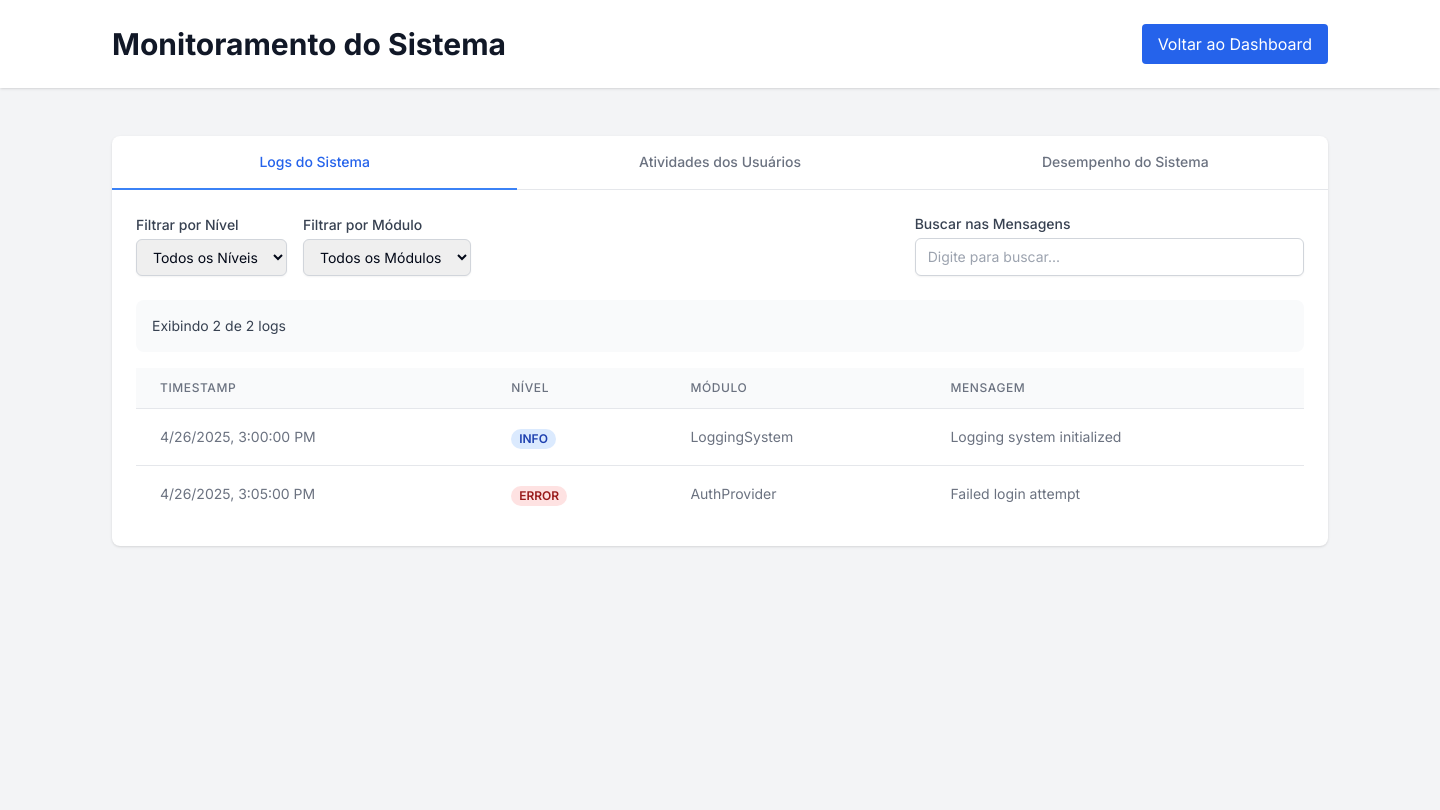
Test: MonitoringDashboard › alterna entre as abas de monitoramento
# Clicar na aba de atividades dos usuários
What coordinates should you click on to do the following:
click the button "Atividades dos Usuários"
I would click on:
 (720, 163)
Its box is [517,136,923,190].
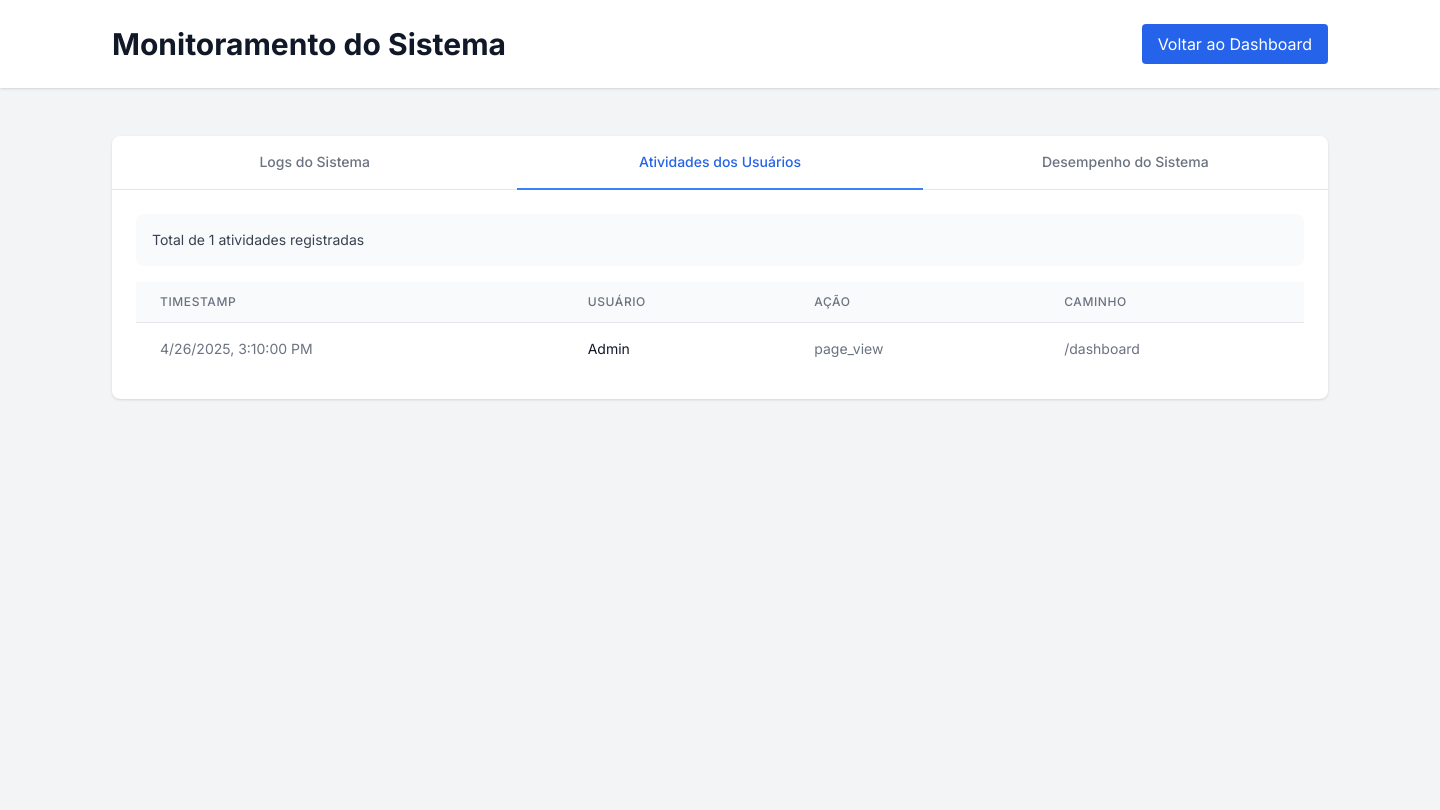
Check: the text "Admin" is shown, box [564,322,790,375]
Check: the text "/dashboard" is shown, box [1040,322,1304,375]
# Clicar na aba de desempenho do sistema
What coordinates should you click on to do the following:
click the button "Desempenho do Sistema"
I would click on:
 (1125, 163)
Its box is [923,136,1328,190].
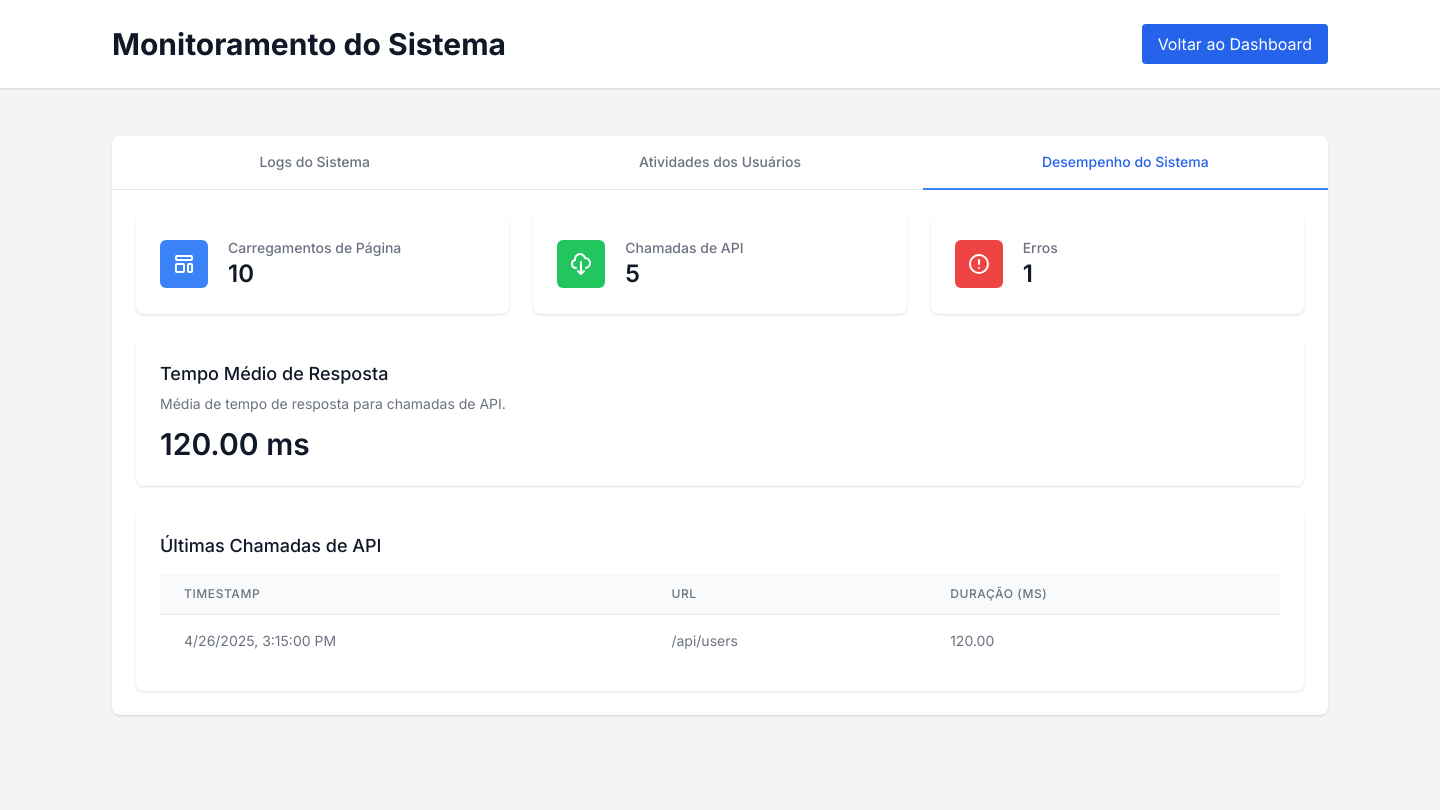
Check: the text "10" is shown, box [228,258,254,290]
Check: the text "Carregamentos de Página" is shown, box [228,239,401,256]
Check: the text "5" is shown, box [625,258,640,290]
